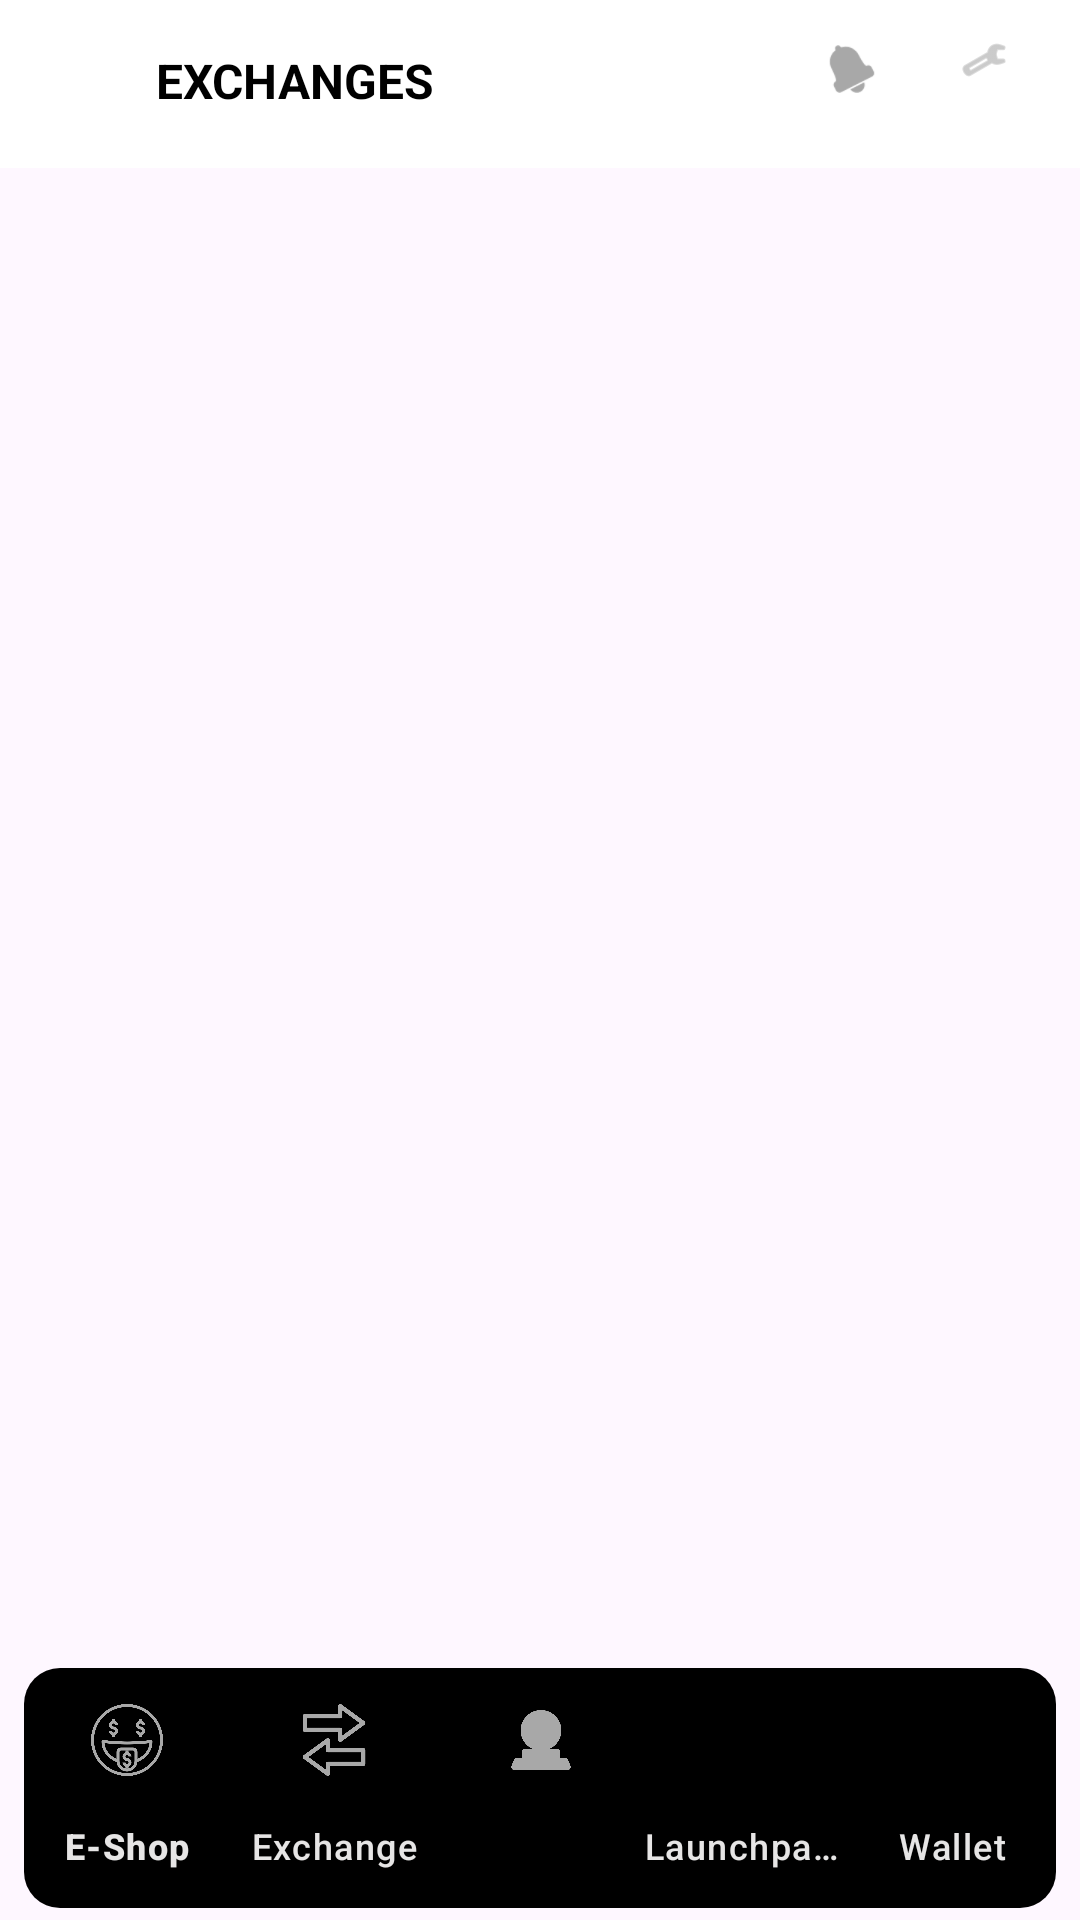

Screen size 1080px x 1920px. Icon name, then its center in pixels as point (x, y):
manage: point (984, 60)
popup reminder: point (852, 69)
